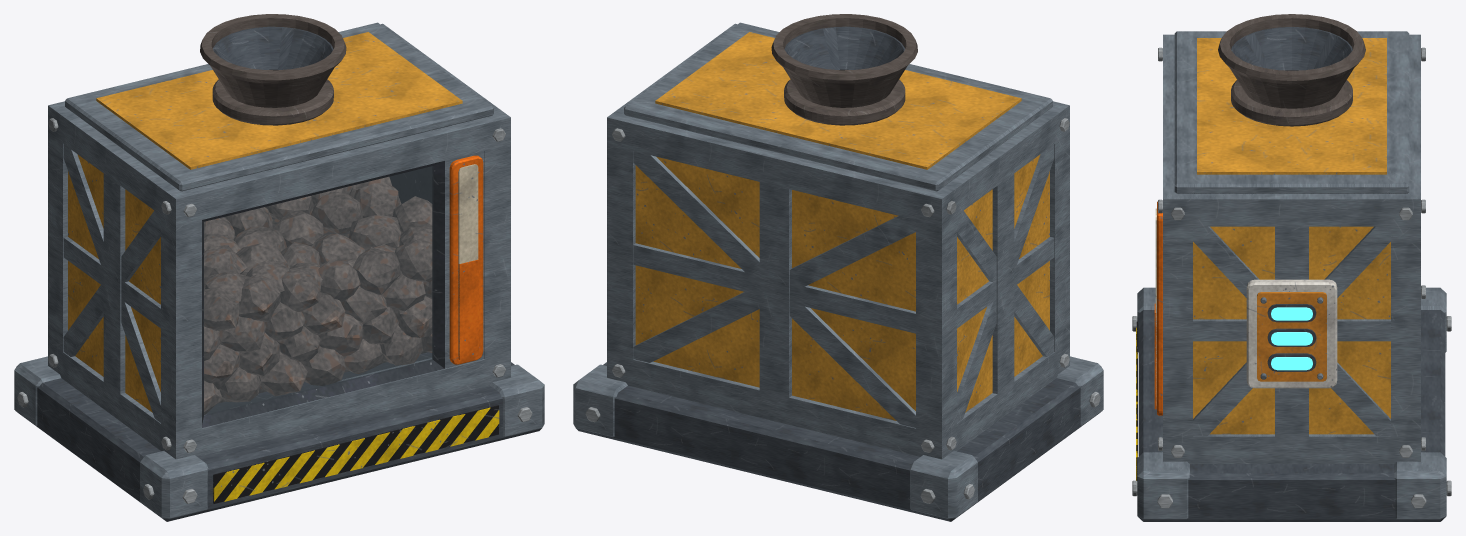
The model's file is ore_bin.glb.
3 renders of one model, left to right at view 1: azimuth 30°, elevation 25°; view 2: azimuth 150°, elevation 25°; view 3: azimuth 270°, elevation 25°, orthographic.
Parts seen in each view (by area): view 1: OreBin_SteelGrey, OreBin_GlassDark, OreBin_Fill_OreRock, OreBin_Lid_Amber, OreBin_SteelDark, OreBin_Lid_SteelGrey, OreBin_Lid_Gunmetal, OreBin_DarkGrey, OreBin_Amber, OreBin_Yellow, OreBin_Black, OreBin_Lid_SteelDark (+4 smaller); view 2: OreBin_SteelGrey, OreBin_Amber, OreBin_SteelDark, OreBin_Lid_Amber, OreBin_Lid_SteelGrey, OreBin_Lid_Gunmetal, OreBin_Lid_SteelDark, OreBin_SteelLight; view 3: OreBin_SteelGrey, OreBin_SteelDark, OreBin_Amber, OreBin_Lid_Amber, OreBin_Lid_SteelGrey, OreBin_Lid_Gunmetal, OreBin_Lid_SteelDark, OreBin_Orange, OreBin_White, OreBin_SteelLight, OreBin_Cyan, OreBin_GaugeOrange.
Boxes of the visible parts, left/top/right/bottom form: OreBin_SteelGrey: left=14, top=23, right=544, bottom=518; OreBin_GlassDark: left=204, top=166, right=433, bottom=415; OreBin_Fill_OreRock: left=204, top=177, right=432, bottom=414; OreBin_Lid_Amber: left=96, top=32, right=462, bottom=169; OreBin_SteelDark: left=16, top=362, right=541, bottom=521; OreBin_Lid_SteelGrey: left=65, top=22, right=493, bottom=191; OreBin_Lid_Gunmetal: left=200, top=14, right=346, bottom=125; OreBin_DarkGrey: left=202, top=161, right=444, bottom=427; OreBin_Amber: left=68, top=154, right=160, bottom=412; OreBin_Yellow: left=213, top=407, right=499, bottom=501; OreBin_Black: left=213, top=405, right=498, bottom=503; OreBin_Lid_SteelDark: left=213, top=26, right=333, bottom=69; OreBin_SteelGrey: left=573, top=23, right=1103, bottom=518; OreBin_Amber: left=635, top=154, right=1049, bottom=420; OreBin_SteelDark: left=576, top=362, right=1101, bottom=521; OreBin_Lid_Amber: left=655, top=32, right=1021, bottom=169; OreBin_Lid_SteelGrey: left=624, top=22, right=1052, bottom=191; OreBin_Lid_Gunmetal: left=771, top=14, right=917, bottom=125; OreBin_Lid_SteelDark: left=784, top=26, right=904, bottom=69; OreBin_SteelLight: left=585, top=118, right=1100, bottom=503; OreBin_SteelGrey: left=1137, top=34, right=1446, bottom=519; OreBin_SteelDark: left=1138, top=304, right=1445, bottom=521; OreBin_Amber: left=1193, top=226, right=1390, bottom=434; OreBin_Lid_Amber: left=1197, top=38, right=1386, bottom=174; OreBin_Lid_SteelGrey: left=1174, top=31, right=1409, bottom=193; OreBin_Lid_Gunmetal: left=1218, top=14, right=1365, bottom=126; OreBin_Lid_SteelDark: left=1231, top=27, right=1352, bottom=70; OreBin_Orange: left=1257, top=292, right=1326, bottom=381; OreBin_White: left=1246, top=279, right=1337, bottom=388; OreBin_SteelLight: left=1132, top=47, right=1451, bottom=508; OreBin_Cyan: left=1271, top=307, right=1312, bottom=370; OreBin_GaugeOrange: left=1157, top=201, right=1162, bottom=415.
Bounding box in the file's own units: 9.35 × 8.67 × 6.55.
Materials: 16 (14 with a texture image).
